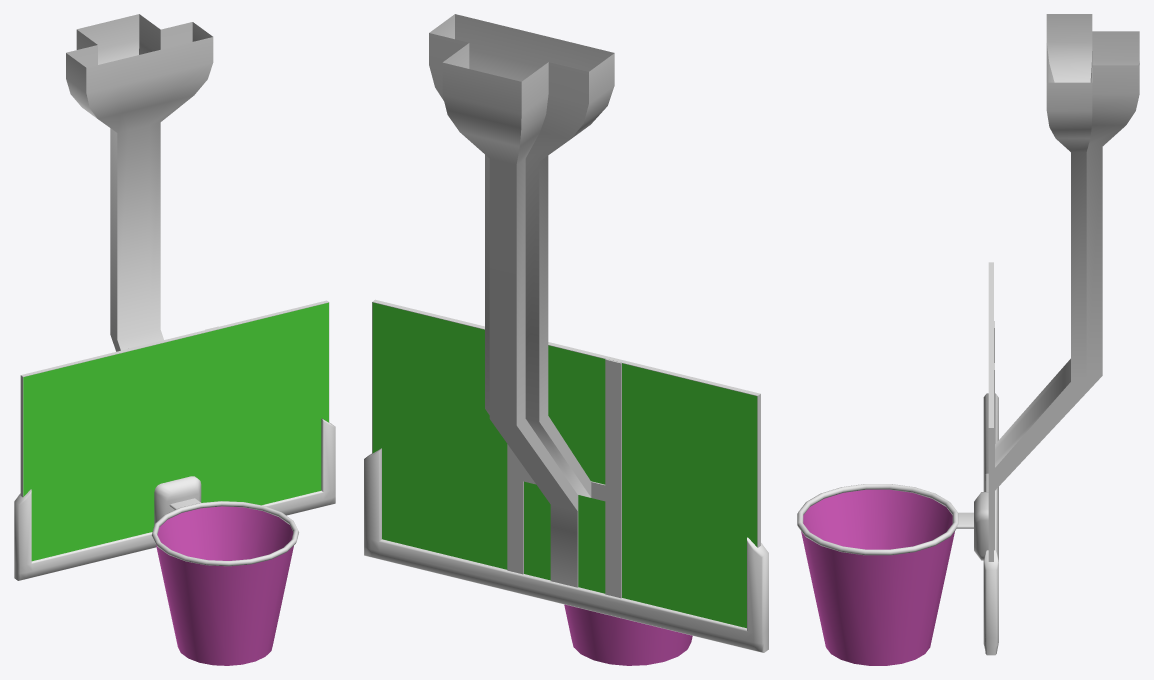
Rendered from Basket.fbx.
The picture shows the model from 3 angles, left to right: view 1: azimuth 30°, elevation 25°; view 2: azimuth 150°, elevation 25°; view 3: azimuth 270°, elevation 25°; orthographic projection. The views are drawn at different scales.
Visible parts, largest first — view 1: Basket; view 2: Basket; view 3: Basket.
Boxes of the visible parts, x1,y1,x2,y2 form: Basket: [14, 14, 335, 665]; Basket: [364, 14, 768, 665]; Basket: [797, 14, 1139, 665].
Bounding box in the file's own units: 2.61 × 4.23 × 2.2.
